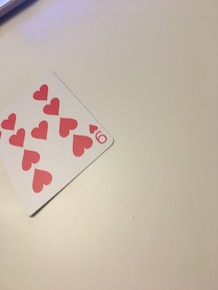NineOfHearts: (1, 67, 117, 221)
